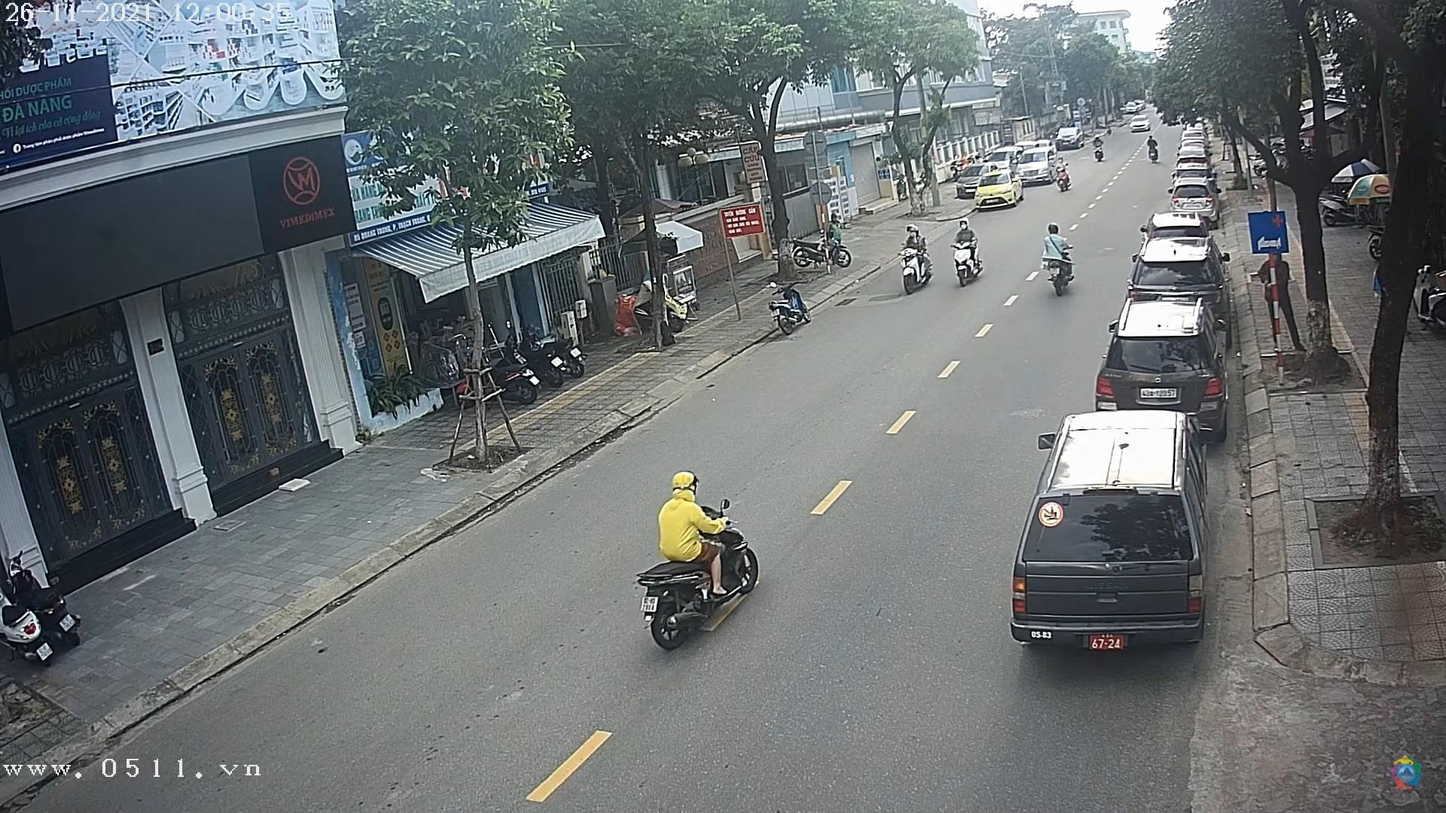car: (1014, 413, 1208, 649), (1095, 303, 1228, 446), (1134, 236, 1218, 287), (1169, 184, 1219, 214), (1057, 126, 1084, 148)
motorbike: (636, 525, 766, 653), (897, 247, 935, 295), (950, 233, 982, 289), (1032, 260, 1078, 298)
